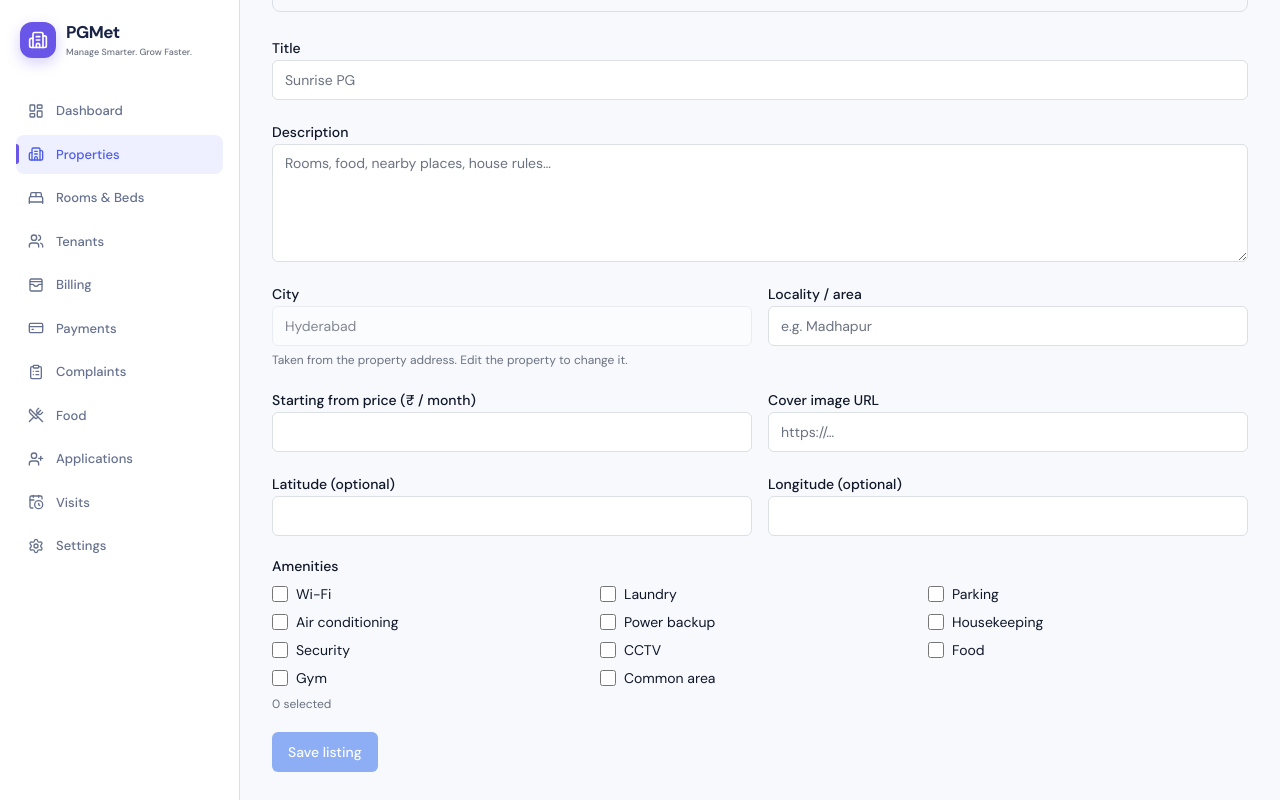
it: Property → Listing tab › validates the image URL and never sends an unsafe one
(page scrolled)
Type "javascript:alert(1)" into the field labelled "Cover image URL" at point(1008, 432), box [768,412,1248,452]
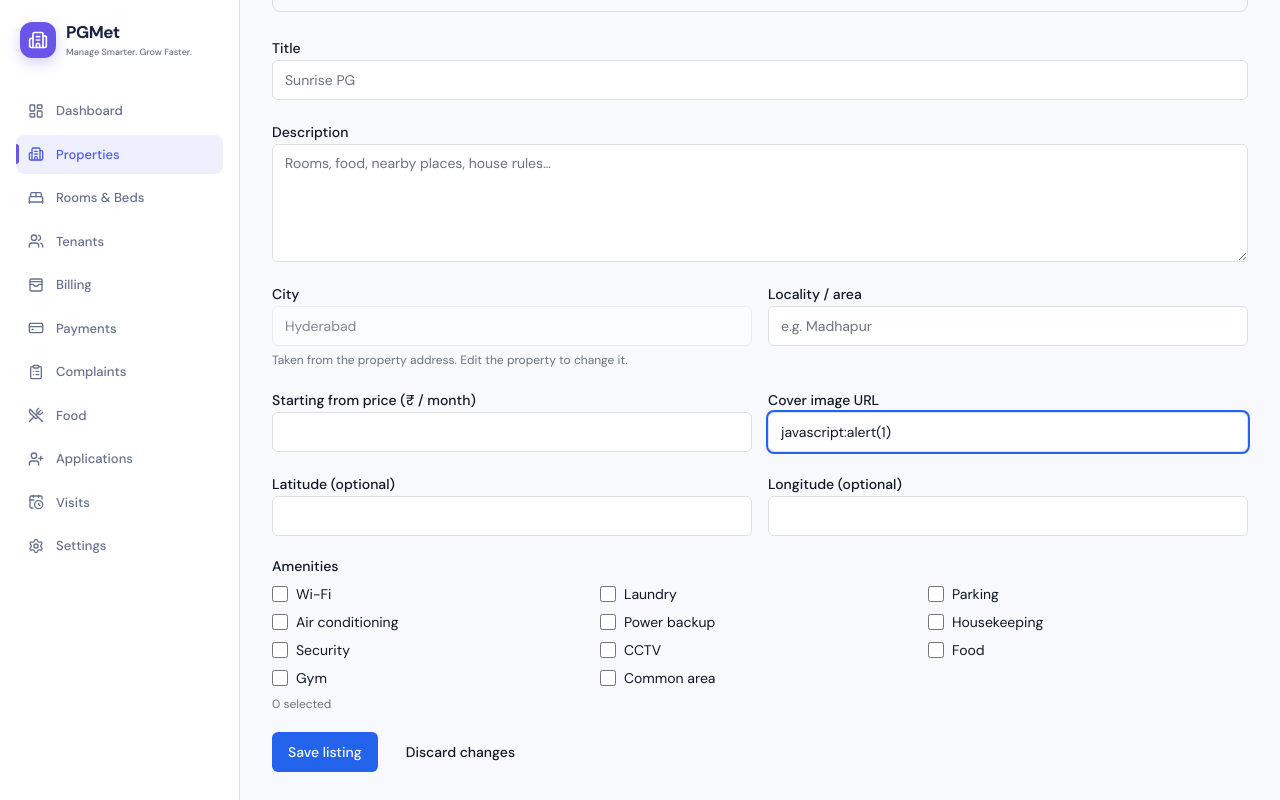
Click the button "Save listing" at point(325, 752), box [272,732,378,772]
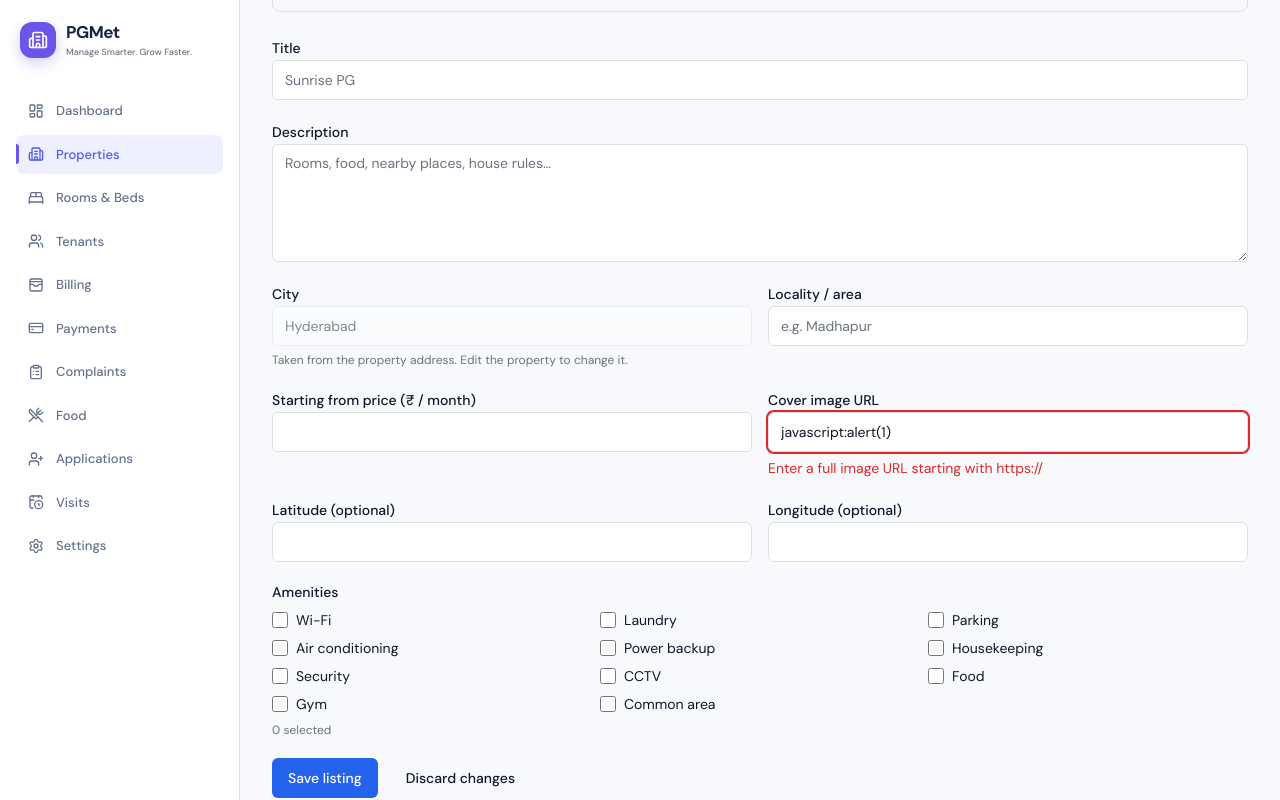
Check: the text "Enter a full image URL starting with https://" is shown, box [768,459,1043,477]
